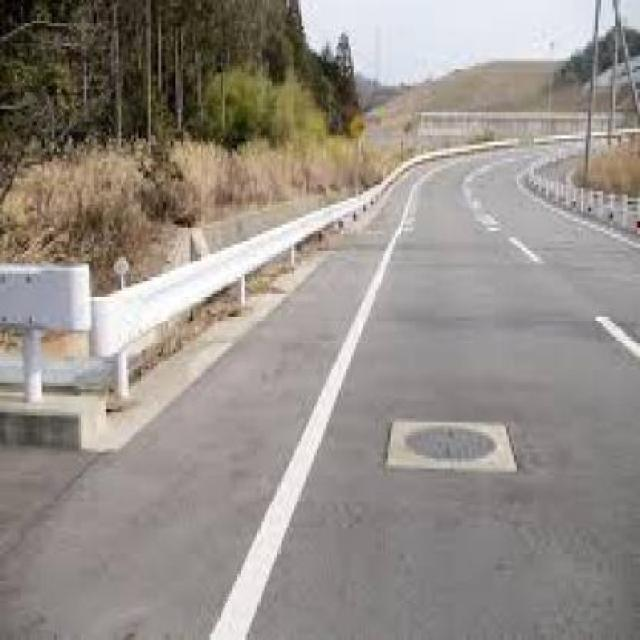Guard rail: (89, 123, 523, 425), (0, 251, 91, 406)
